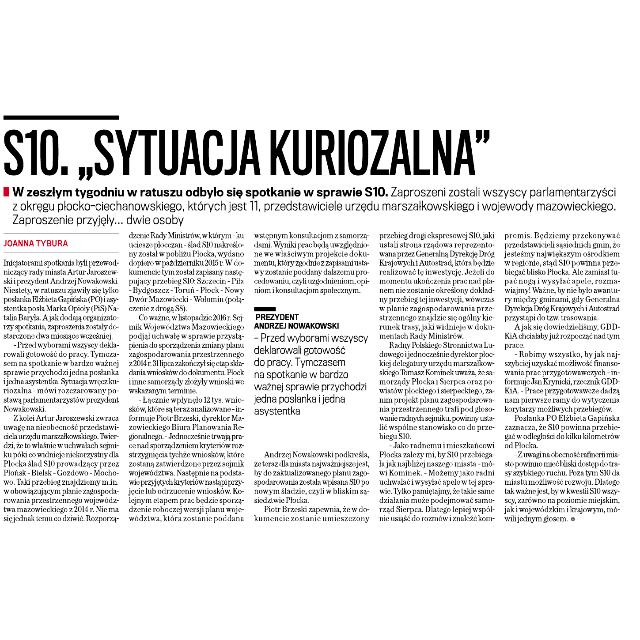author: (1, 235, 72, 249)
body: (499, 231, 623, 524), (126, 230, 247, 524), (378, 231, 498, 524), (0, 255, 121, 525), (251, 303, 369, 417), (250, 446, 372, 522), (251, 228, 371, 296)
lead: (12, 184, 620, 226)
title: (1, 121, 499, 182)
